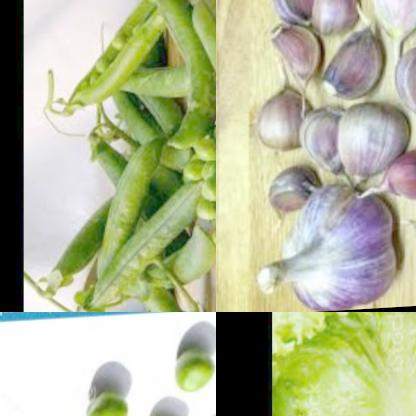garlic: (256, 177, 394, 312), (322, 99, 404, 193), (315, 15, 388, 110), (250, 64, 307, 159), (290, 104, 345, 180), (268, 19, 316, 99), (373, 0, 416, 77), (364, 150, 416, 213), (298, 0, 361, 40), (388, 47, 416, 133), (268, 0, 330, 34)
peas: (38, 0, 216, 312), (181, 113, 216, 250), (168, 349, 216, 400), (83, 386, 126, 416)
salad: (271, 312, 416, 416)
